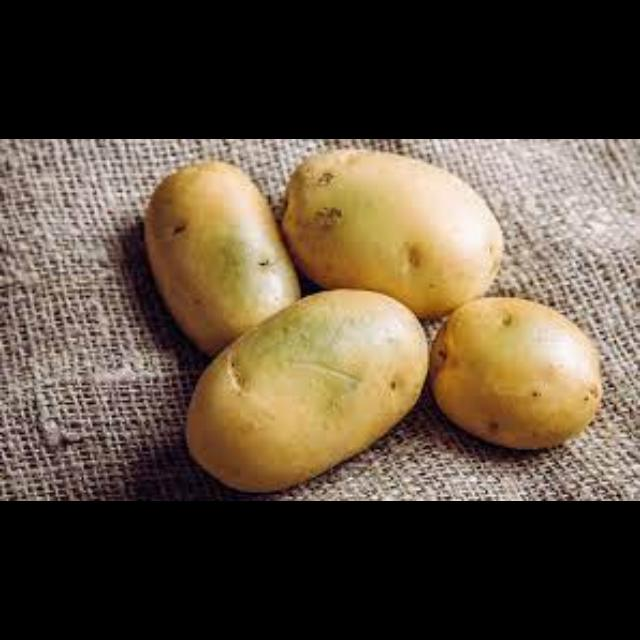Defected potato: (178, 287, 430, 498), (276, 145, 512, 329), (141, 154, 311, 368), (427, 297, 608, 453)
